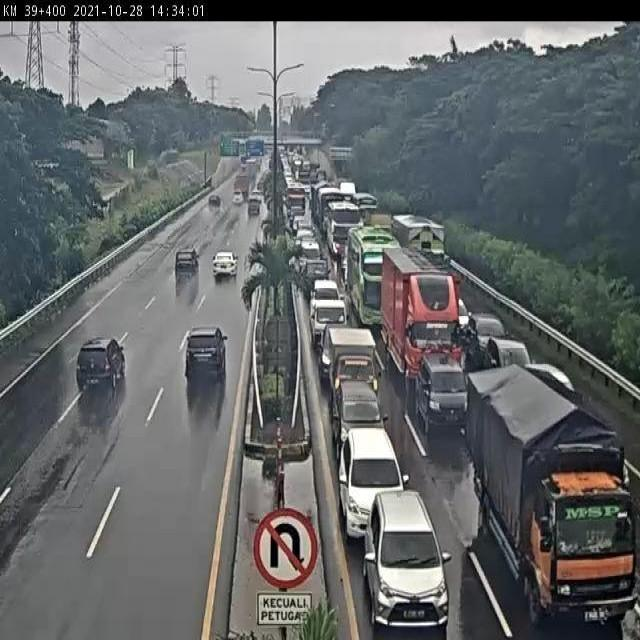bus-l-: (348, 228, 401, 329), (322, 202, 362, 258)
car: (360, 489, 449, 623), (334, 429, 409, 539), (416, 350, 472, 438), (322, 328, 384, 405), (327, 382, 389, 458), (75, 335, 130, 393), (183, 327, 227, 381), (309, 296, 350, 352), (466, 313, 508, 360), (487, 337, 530, 375), (298, 258, 330, 298), (173, 244, 200, 285), (211, 248, 240, 283), (447, 293, 470, 335), (312, 278, 340, 302)
truck-l-: (469, 368, 636, 619), (380, 247, 459, 393), (392, 212, 456, 284)
